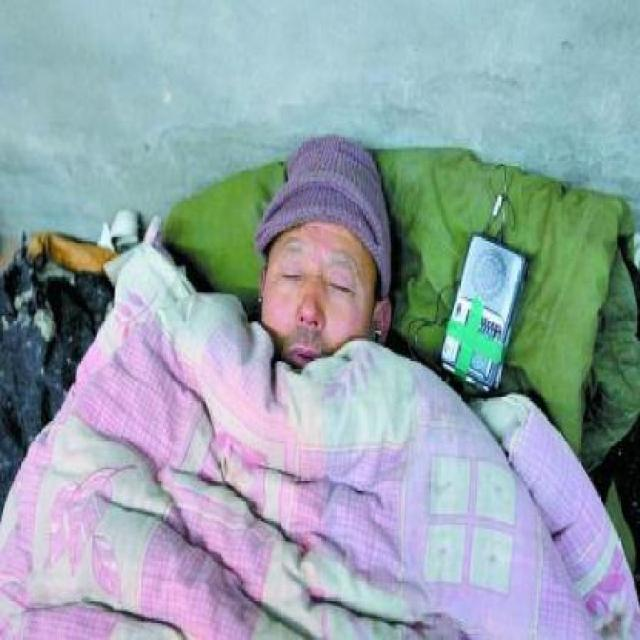fall: (0, 205, 638, 632)
